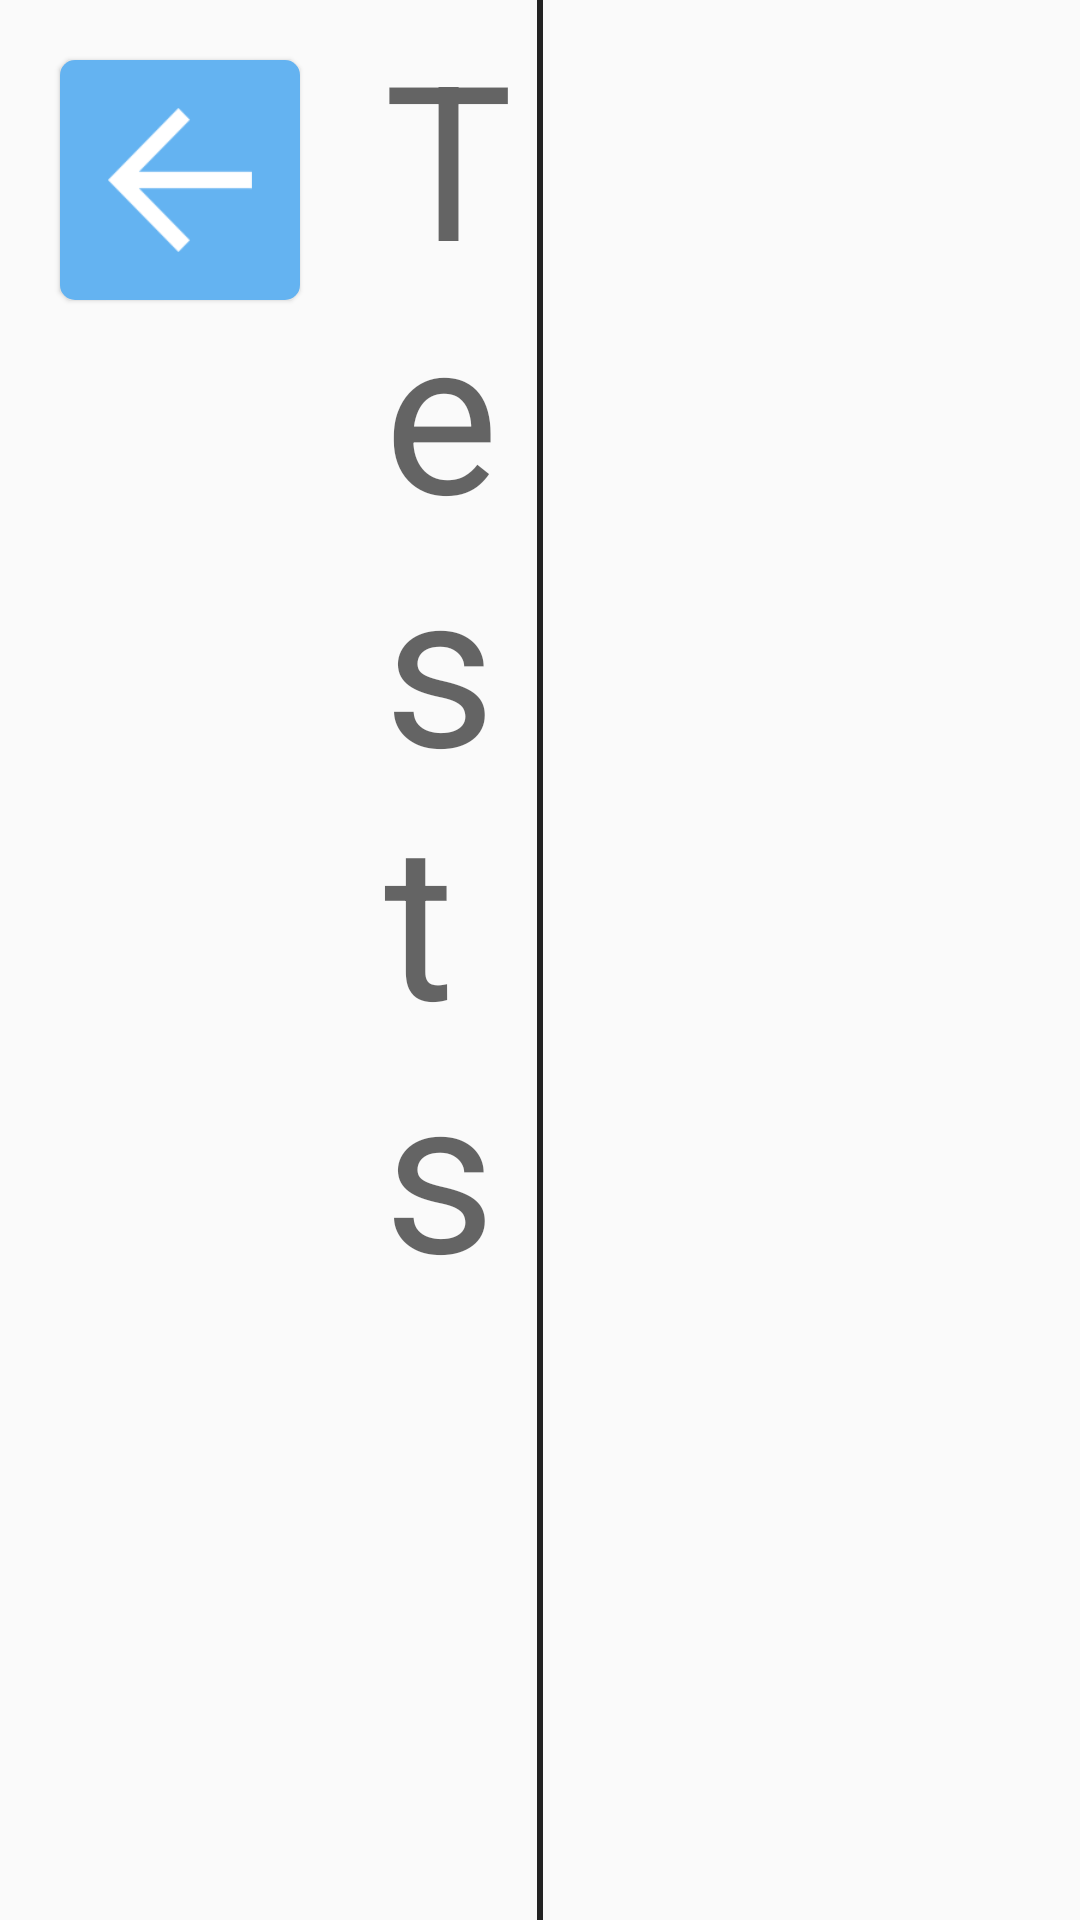

Screen size 1080×1920. Icon name, then its box in pixels as rect(x1, y1, x2, y2):
back: rect(60, 60, 300, 300)
